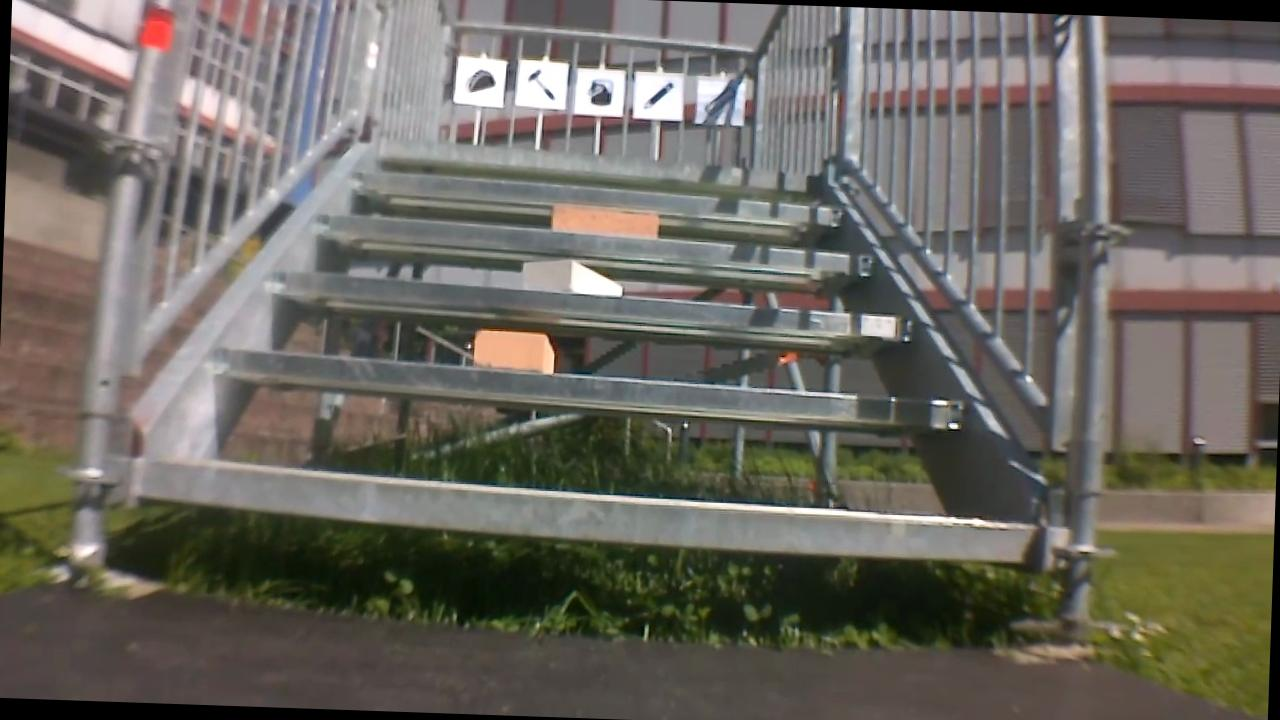brick: (521, 256, 627, 298), (466, 328, 557, 371), (553, 206, 661, 235)
edge: (213, 355, 983, 430), (130, 488, 1053, 550), (262, 275, 915, 334), (344, 168, 853, 218), (298, 222, 884, 263), (362, 139, 831, 180)
steps: (95, 141, 1076, 553)
